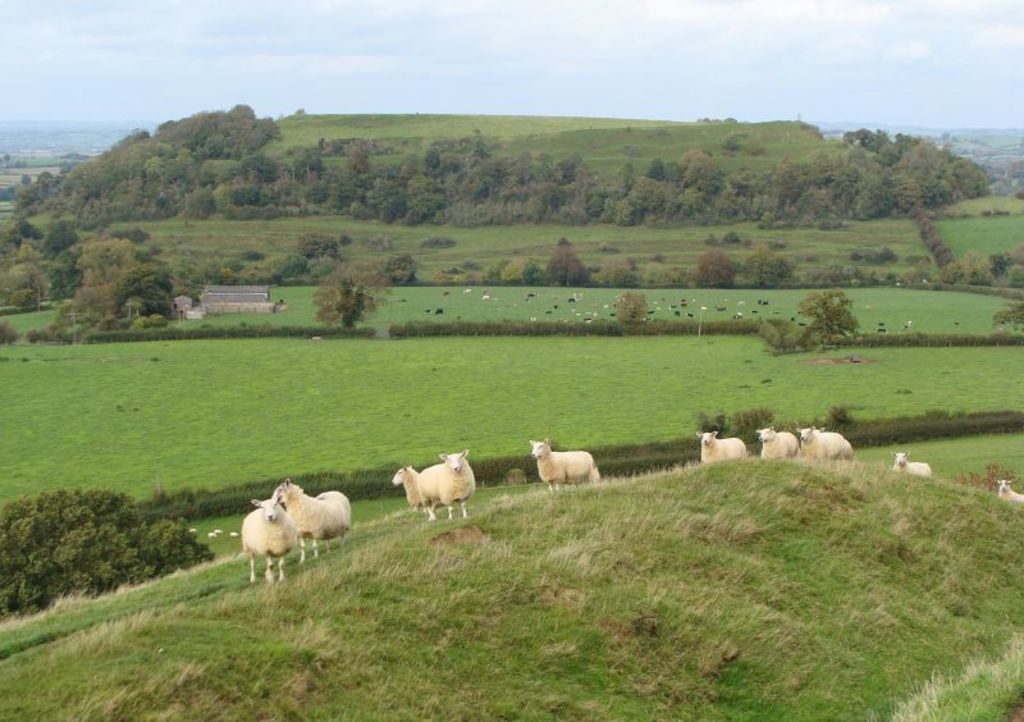sheep: (239, 499, 302, 583), (417, 450, 477, 522), (528, 441, 602, 492), (693, 432, 748, 462), (798, 432, 855, 459), (757, 427, 800, 458)
